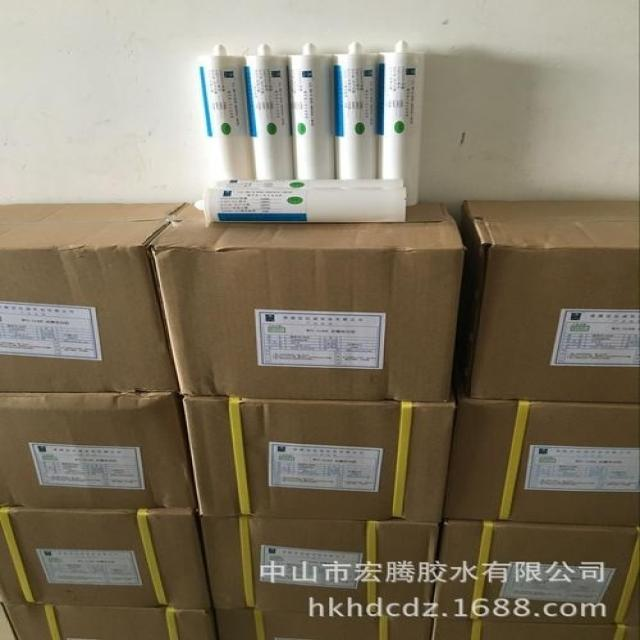box: (148, 201, 466, 401), (457, 200, 640, 405), (0, 203, 189, 392), (183, 394, 457, 523), (443, 373, 640, 526), (197, 514, 442, 616), (0, 392, 197, 508), (434, 519, 640, 624), (0, 508, 212, 609), (0, 603, 218, 639), (212, 610, 434, 640), (430, 618, 640, 640)
